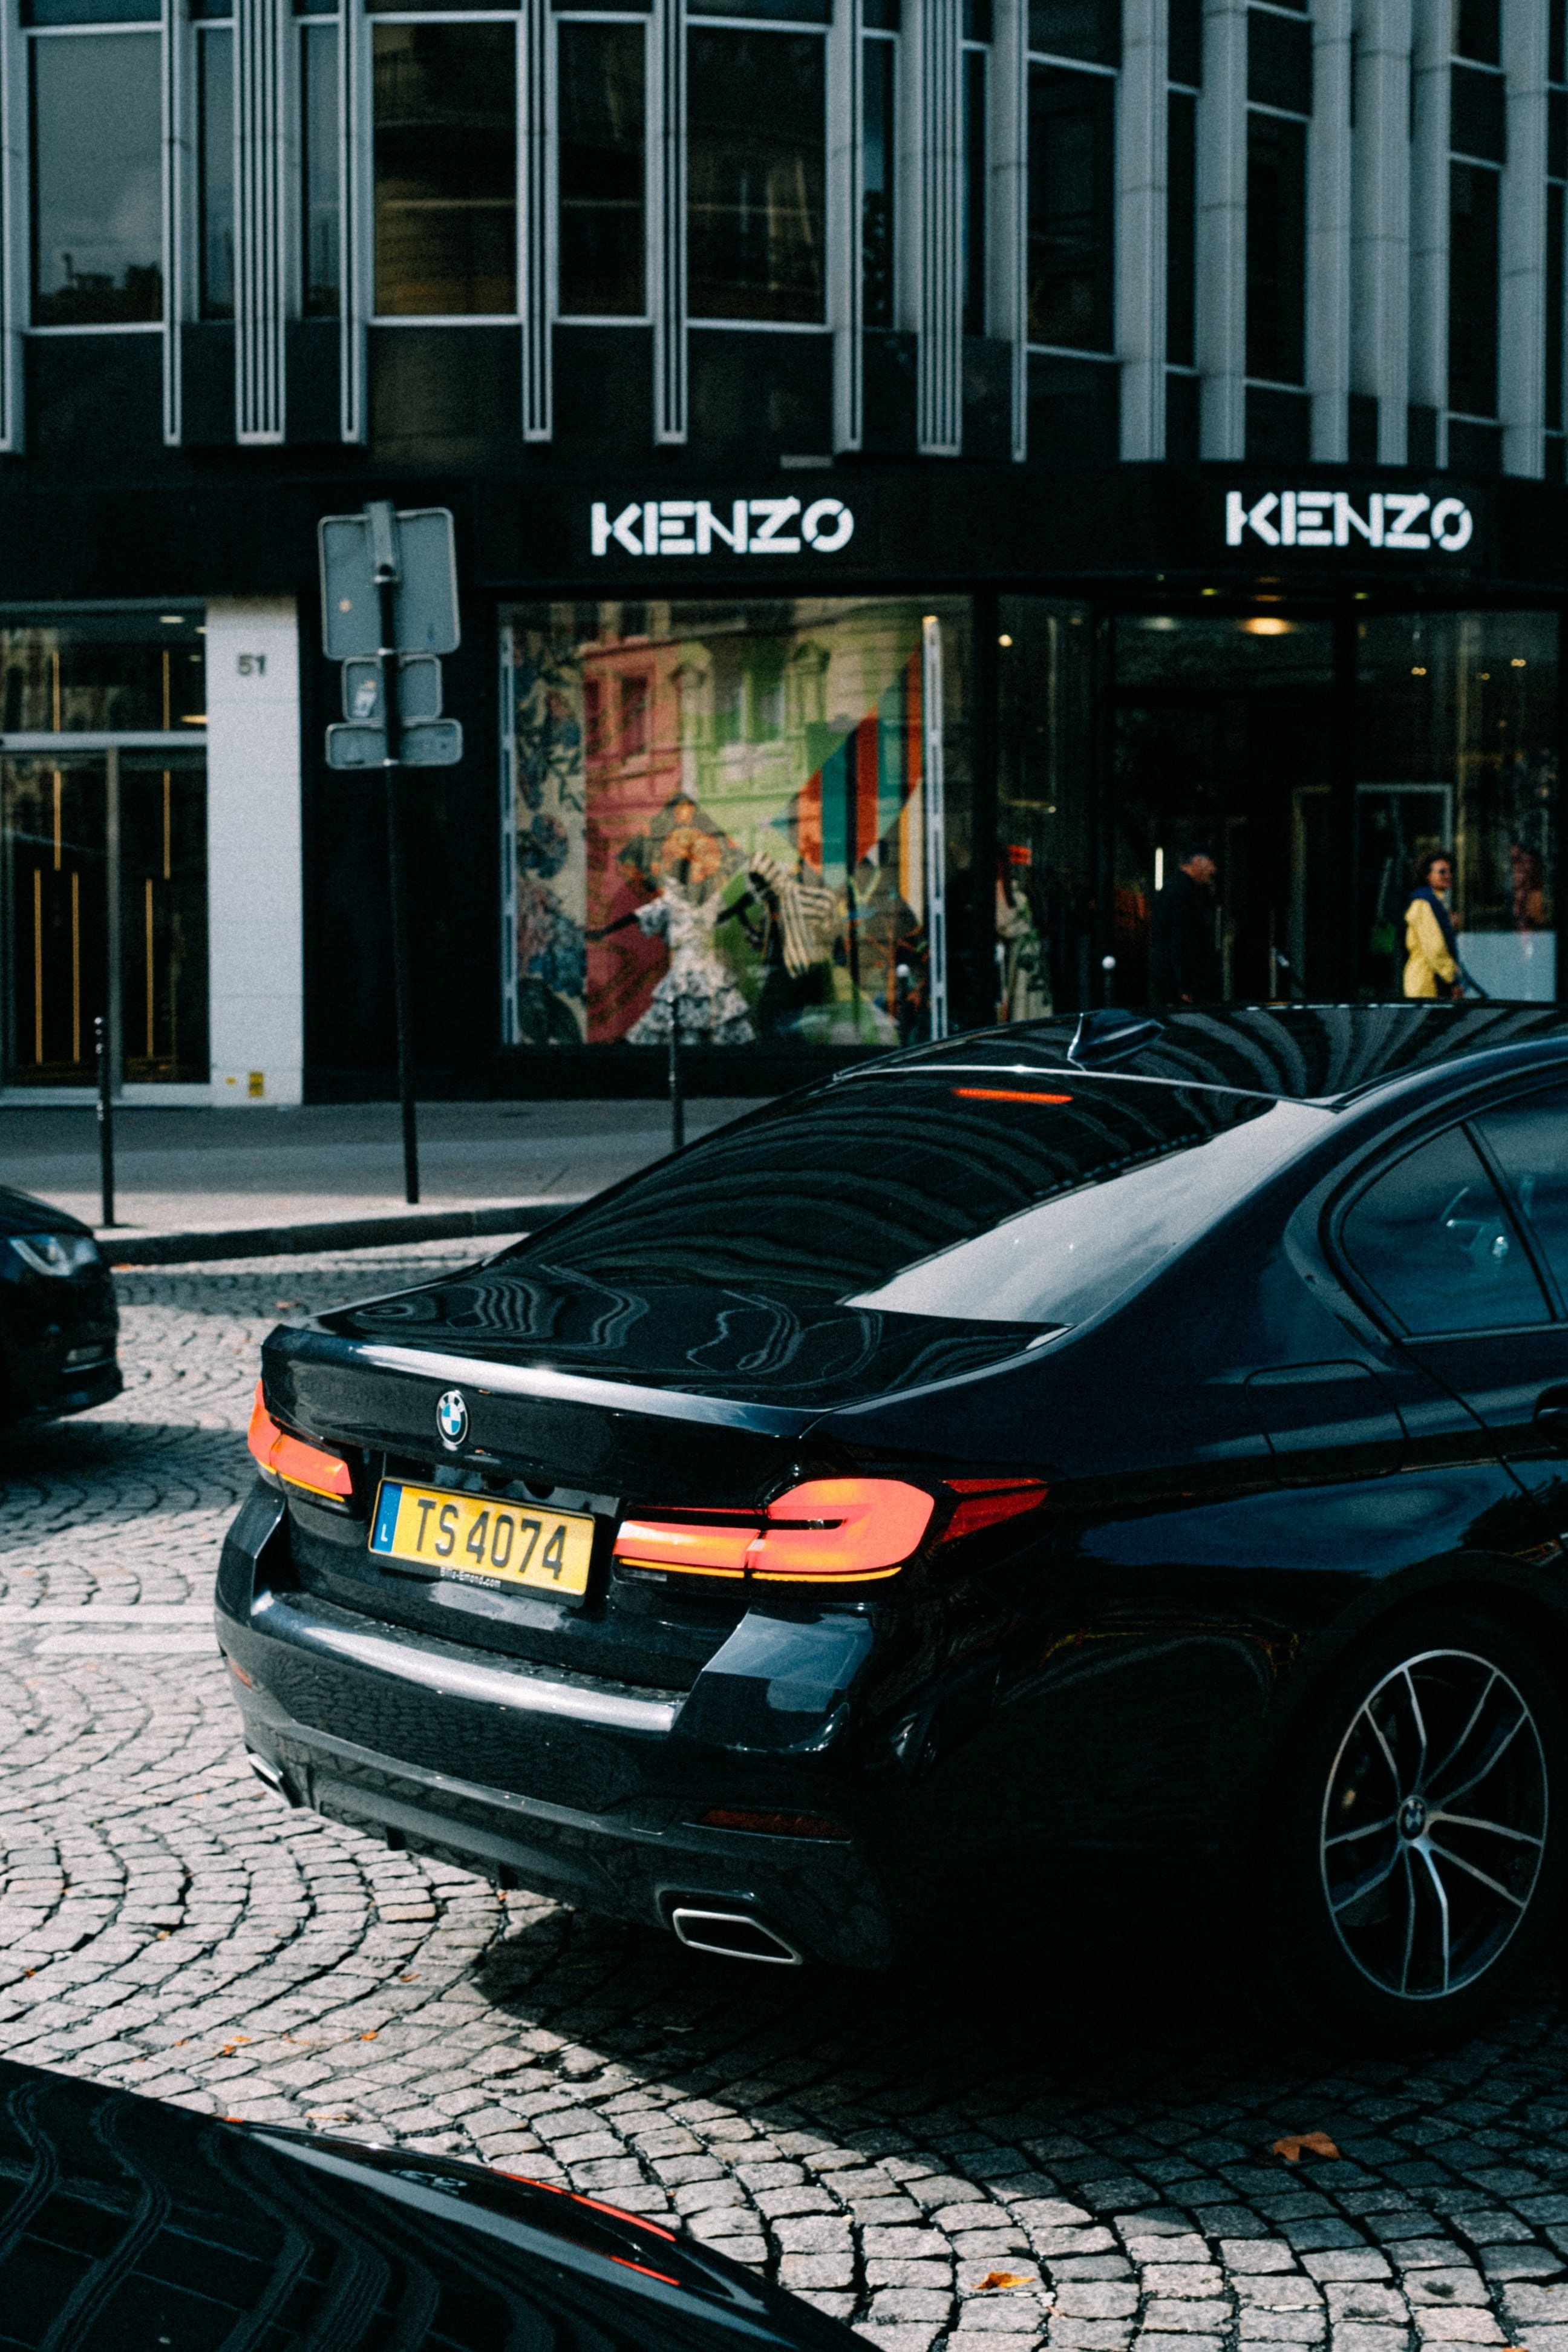plaka: (364, 1475, 597, 1606)
